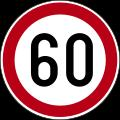Speed Limit -60-: (23, 28, 99, 90)
